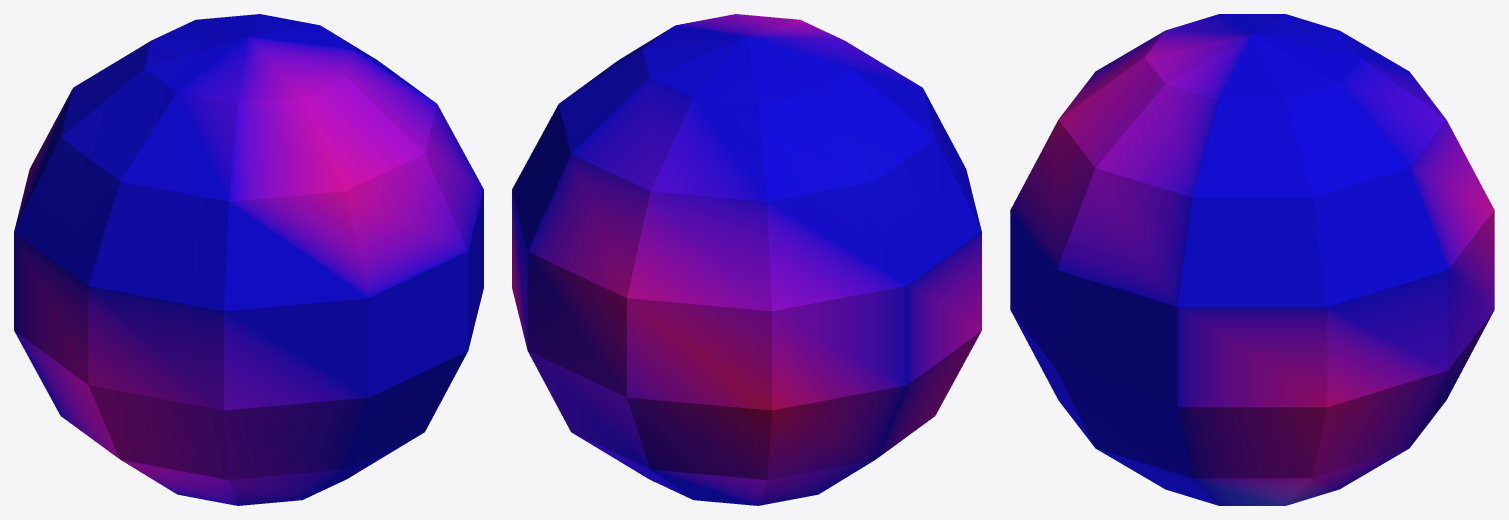
The model's file is ball.glb.
The picture shows the model from 3 angles, left to right: view 1: azimuth 30°, elevation 25°; view 2: azimuth 150°, elevation 25°; view 3: azimuth 270°, elevation 25°; orthographic projection.
Parts seen in each view (by area): view 1: Sphere; view 2: Sphere; view 3: Sphere.
Boxes of the visible parts, left/top/right/bottom form: Sphere: left=14, top=14, right=483, bottom=505; Sphere: left=512, top=14, right=981, bottom=505; Sphere: left=1010, top=14, right=1494, bottom=505.
Size of the model in its own units: 1.85 by 2 by 1.95.
